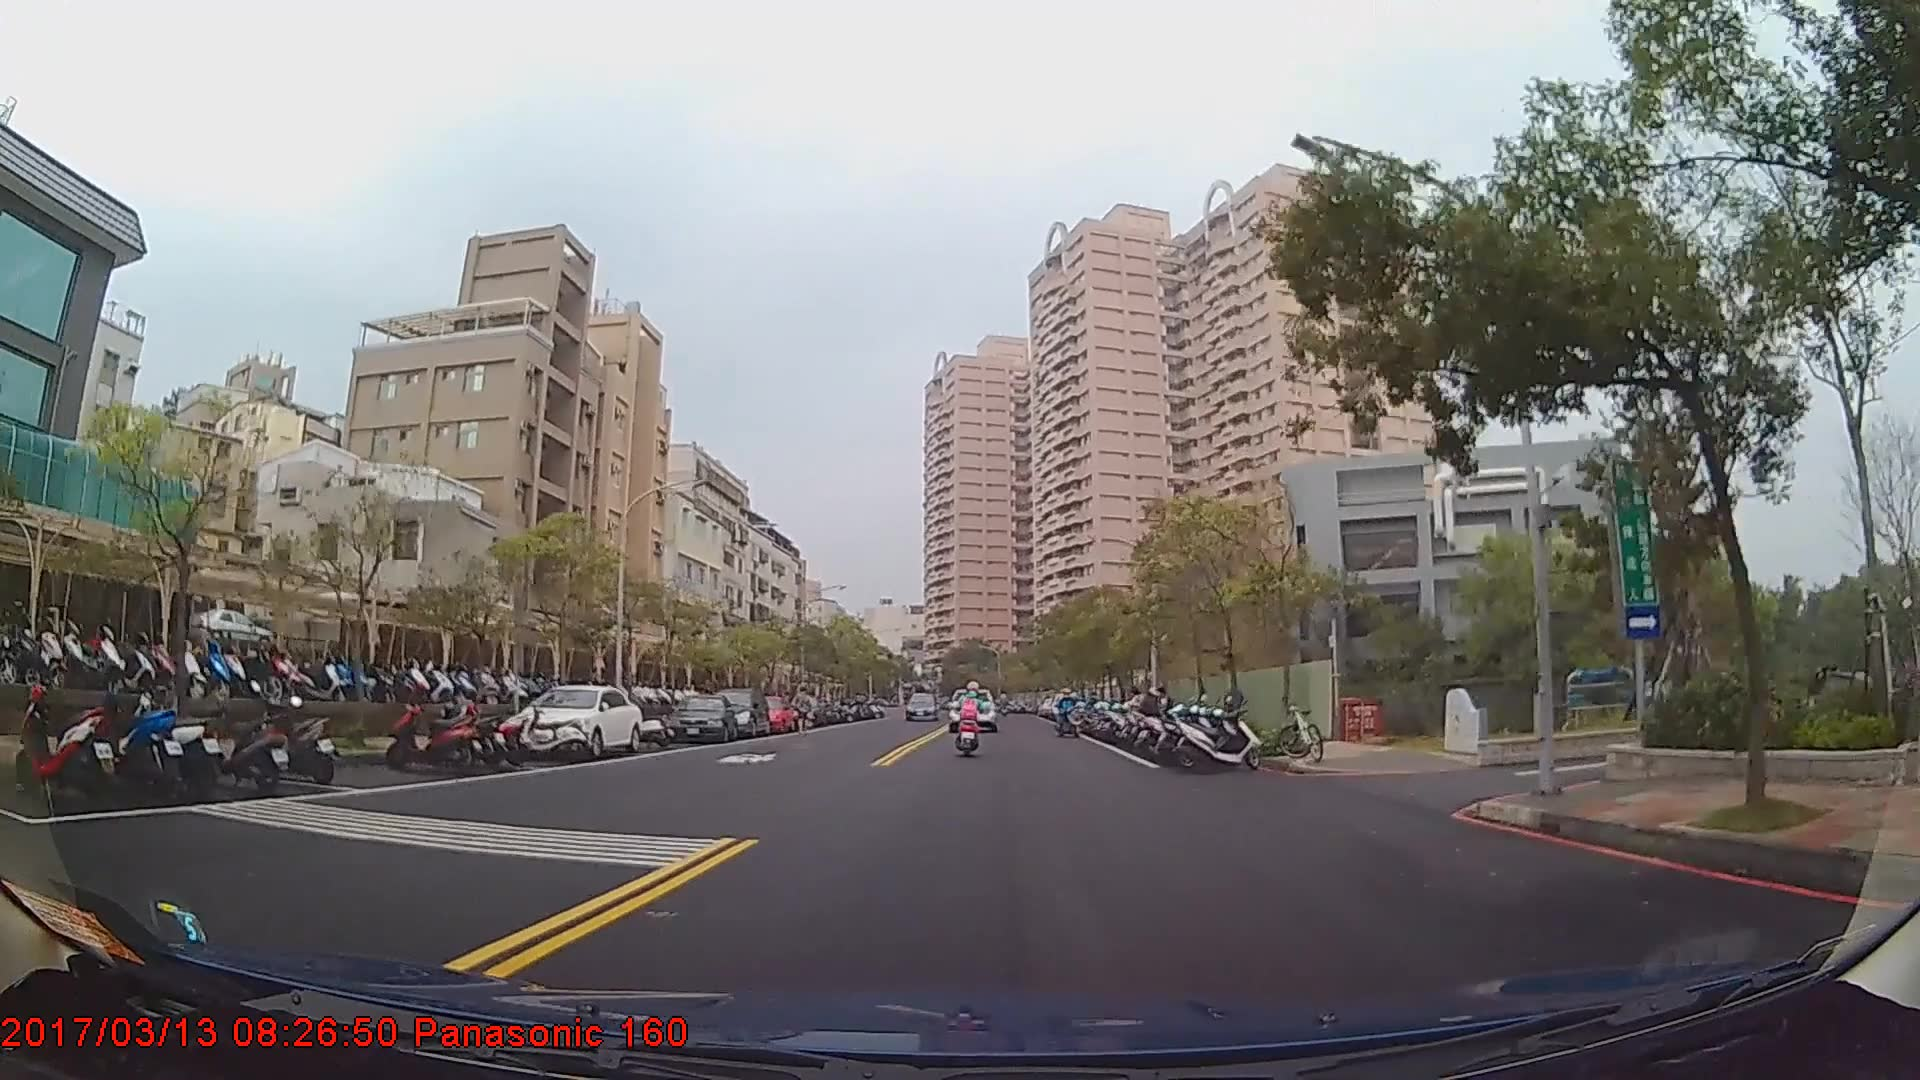pedestrian: (1135, 675, 1170, 749), (1223, 679, 1247, 733), (792, 687, 816, 737)
rider: (957, 678, 987, 750), (1055, 688, 1080, 737)
vehicle: (516, 682, 642, 756), (664, 692, 735, 742), (707, 685, 770, 736), (947, 686, 998, 731), (902, 691, 939, 719)
